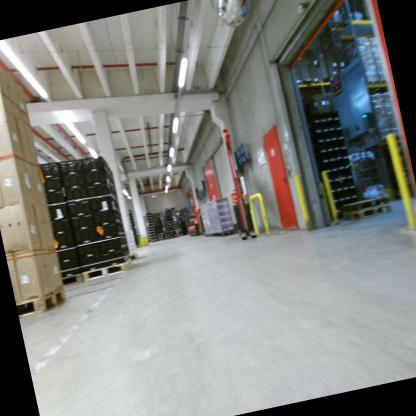pallet: (15, 284, 68, 319), (78, 258, 134, 287), (338, 190, 393, 216), (341, 201, 395, 226), (57, 270, 86, 292), (122, 248, 142, 265), (157, 235, 165, 242), (150, 237, 158, 244), (170, 233, 177, 239), (164, 235, 171, 241), (176, 232, 184, 237)
pallet_truck: (228, 183, 259, 243), (185, 213, 203, 237)
